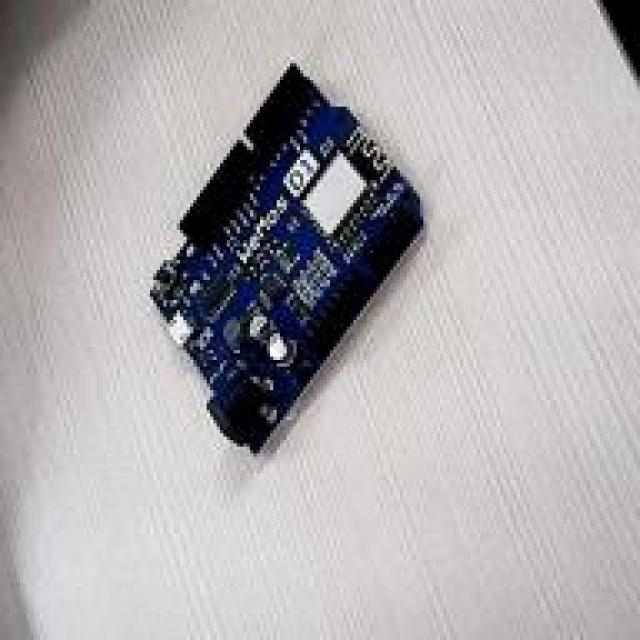Wemos: (151, 68, 421, 451)
